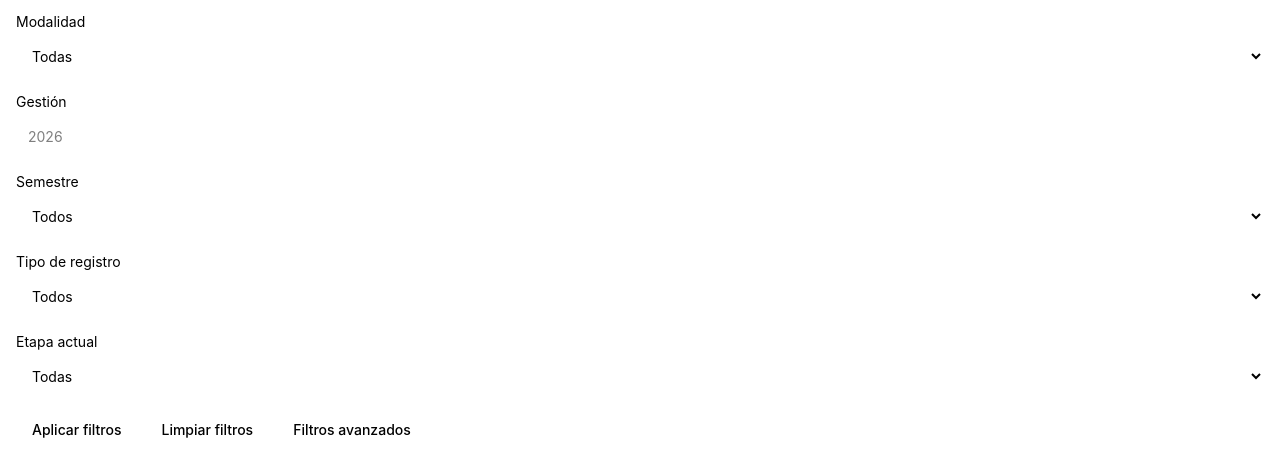
Scenario: ReportFilters › carga etapas válidas, ignora null y envía el ID sólo al aplicar
Later steps or results of the test are not shown.
Select "Proyecto" in the dropdown labelled "Modalidad" at (640, 56), box [16,36,1264,76]
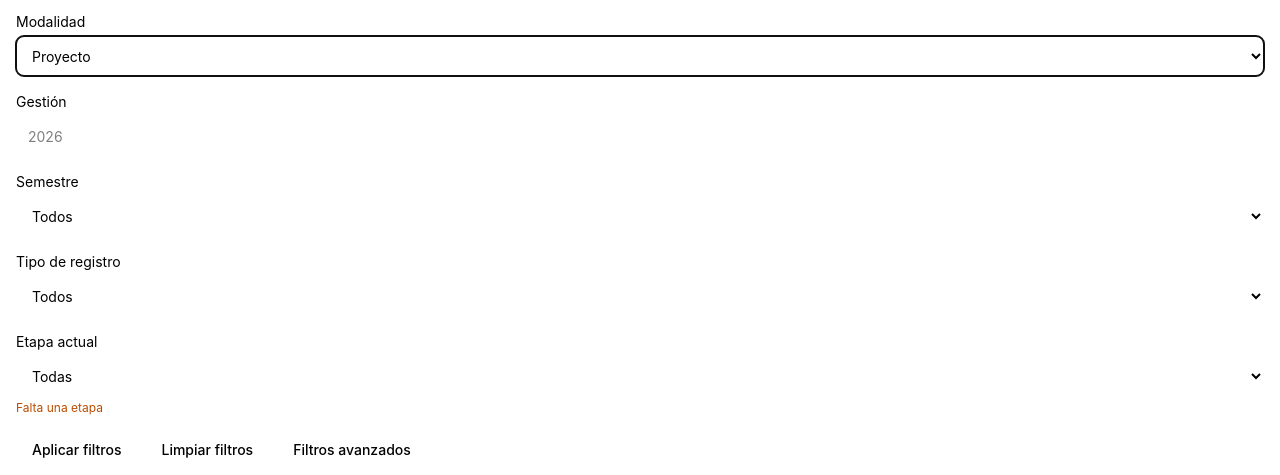
Select "Etapa A" in the dropdown labelled "Etapa actual" at (640, 376), box [16,356,1264,396]
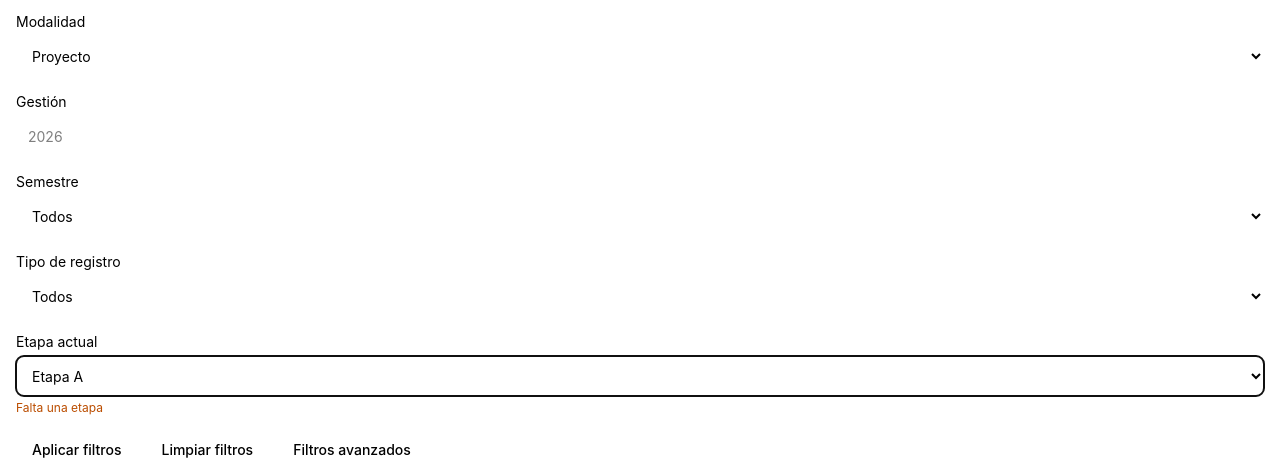
Expected: the text "Falta una etapa" is shown, [16,400,103,415]
